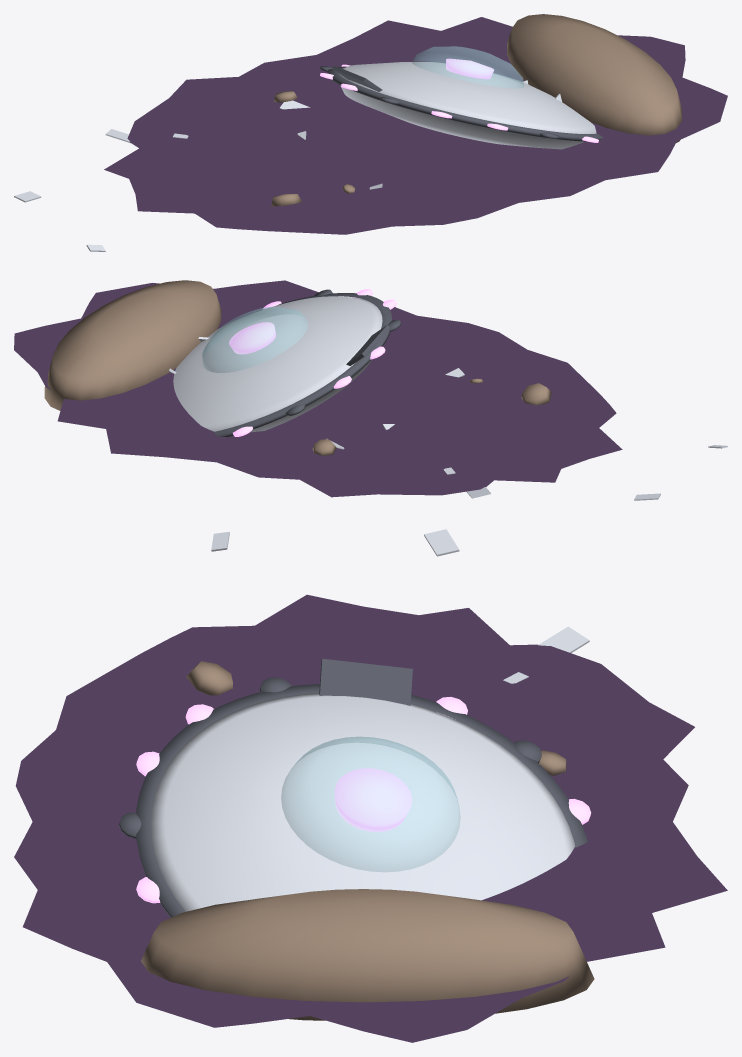
Rendered from crash_wreck.glb.
The picture shows the model from 3 angles, top to bottom: view 1: azimuth 30°, elevation 25°; view 2: azimuth 150°, elevation 25°; view 3: azimuth 270°, elevation 25°; orthographic projection. The views are drawn at different scales.
Visible parts, largest first — view 1: scorch, bow_wave, hull, dome, rim, core; view 2: scorch, hull, bow_wave, dome, rim, core, clod_10, hatch_ramp; view 3: scorch, hull, bow_wave, dome, rim, core, hatch_ramp, clod_10.
Part boxes in pixels (<box>): scorch: <box>104,17,727,234</box>; bow_wave: <box>507,14,682,142</box>; hull: <box>338,62,596,149</box>; dome: <box>412,46,523,88</box>; rim: <box>327,66,603,141</box>; core: <box>446,58,493,79</box>; scorch: <box>14,280,622,497</box>; hull: <box>173,296,382,432</box>; bow_wave: <box>44,280,221,410</box>; dome: <box>202,306,307,372</box>; rim: <box>214,293,391,437</box>; core: <box>229,322,275,354</box>; clod_10: <box>521,383,551,405</box>; hatch_ramp: <box>346,325,389,365</box>; scorch: <box>14,594,727,1042</box>; hull: <box>150,693,575,911</box>; bow_wave: <box>141,889,594,1020</box>; dome: <box>281,736,460,871</box>; rim: <box>136,684,587,917</box>; core: <box>334,768,412,831</box>; hatch_ramp: <box>319,658,412,705</box>; clod_10: <box>186,661,232,695</box>.
Size of what is drawn, in the model's own units: 29.43 by 5.11 by 17.42.
